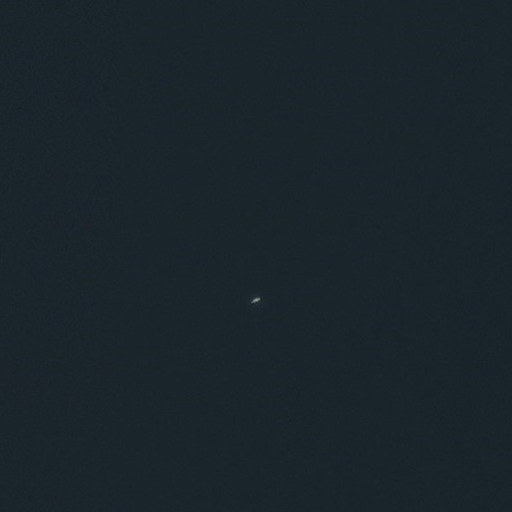ship: (246, 294, 263, 307)
